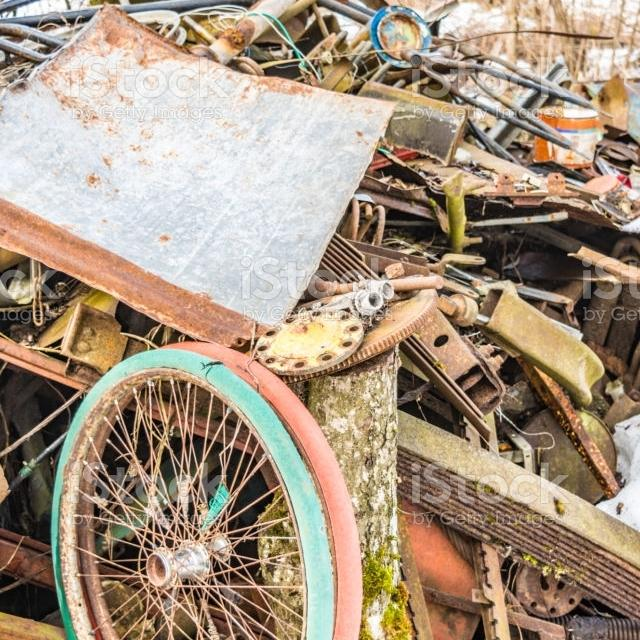metal: (0, 0, 420, 361), (28, 330, 393, 640), (394, 405, 640, 640), (258, 263, 531, 439), (352, 0, 622, 154), (425, 275, 630, 416), (558, 591, 640, 640), (610, 301, 640, 404)
